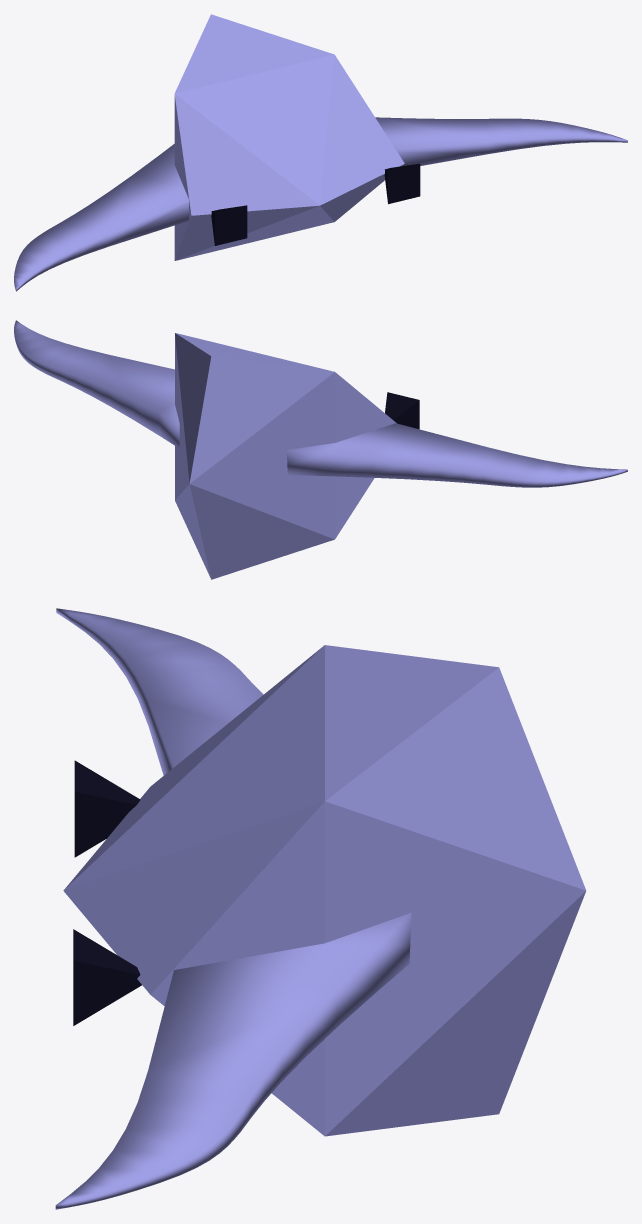
The model's file is spaceship.obj.
3 renders of one model, top to bottom at view 1: azimuth 30°, elevation 25°; view 2: azimuth 150°, elevation 25°; view 3: azimuth 270°, elevation 25°, orthographic. The views are drawn at different scales.
Visible parts, largest first — view 1: Hedra002, Line010, Line009, Pyramid001, Pyramid002; view 2: Hedra002, Line010, Line009, Pyramid001; view 3: Hedra002, Line009, Line010, Pyramid002, Pyramid001.
Boxes of the visible parts, box(x1,y1,x2,y2) form: Hedra002: box(174, 14, 404, 260); Line010: box(14, 144, 188, 291); Line009: box(375, 117, 627, 166); Pyramid001: box(211, 205, 247, 245); Pyramid002: box(384, 163, 420, 204); Hedra002: box(175, 333, 396, 579); Line010: box(286, 423, 627, 487); Line009: box(14, 320, 179, 448); Pyramid001: box(385, 392, 419, 429); Hedra002: box(63, 645, 586, 1136); Line009: box(55, 913, 411, 1209); Line010: box(56, 608, 263, 775); Pyramid002: box(73, 929, 141, 1025); Pyramid001: box(74, 760, 140, 857).
Size of the model in its own units: 97.24 by 33.94 by 36.53.
